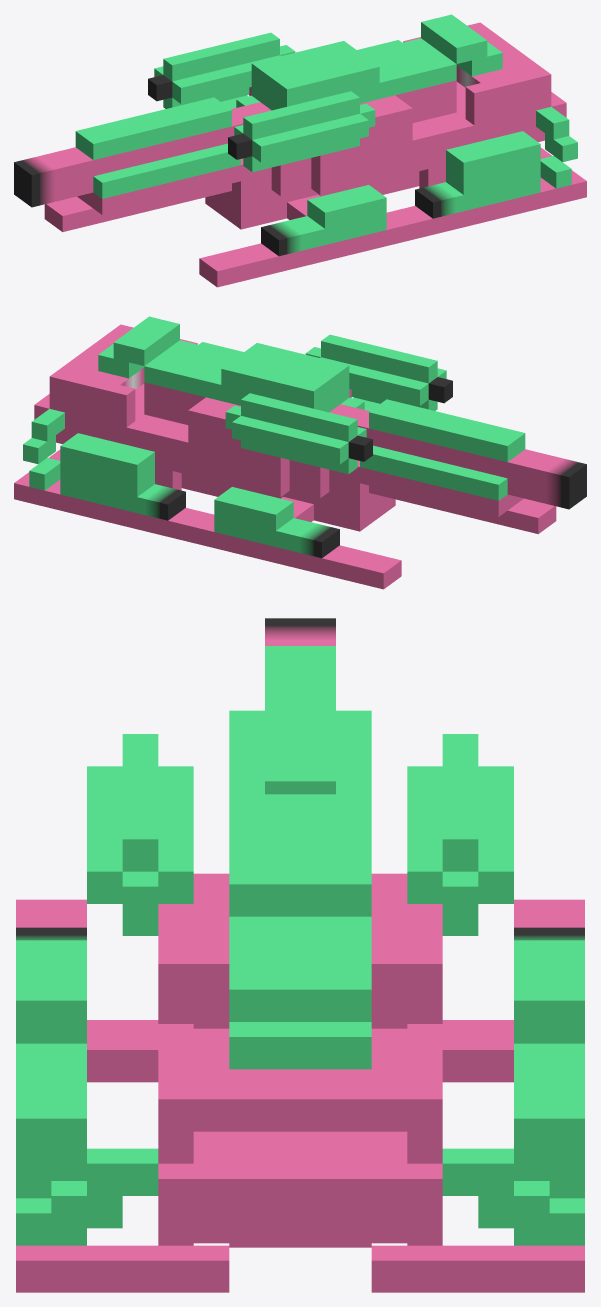
Rendered from Player_3.fbx.
3 renders of one model, top to bottom at view 1: azimuth 30°, elevation 25°; view 2: azimuth 150°, elevation 25°; view 3: azimuth 270°, elevation 25°, orthographic. The views are drawn at different scales.
Visible parts, largest first — view 1: Player_3; view 2: Player_3; view 3: Player_3.
Part boxes in pixels (x1,y1,x2,y2): Player_3: (14,14,586,287); Player_3: (14,316,586,589); Player_3: (16,618,584,1292).
Bounding box in the file's own units: 33 × 8 × 16.
Materials: 1 (1 with a texture image).
